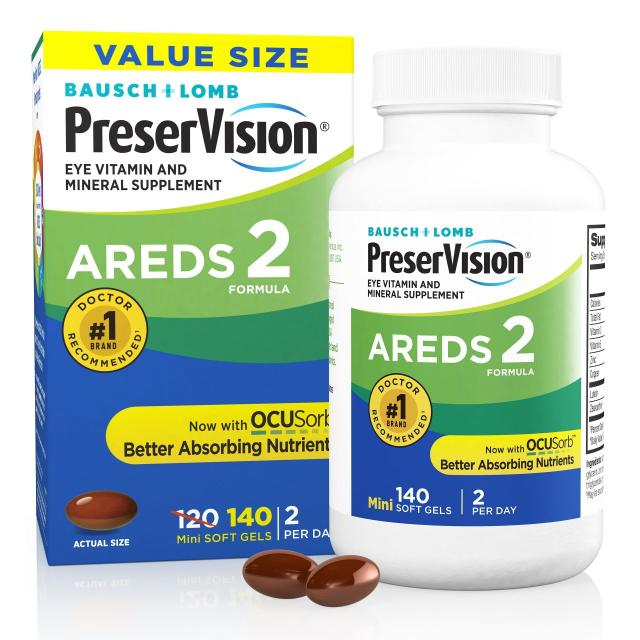food-supliment: (33, 37, 330, 558), (362, 55, 592, 537)
